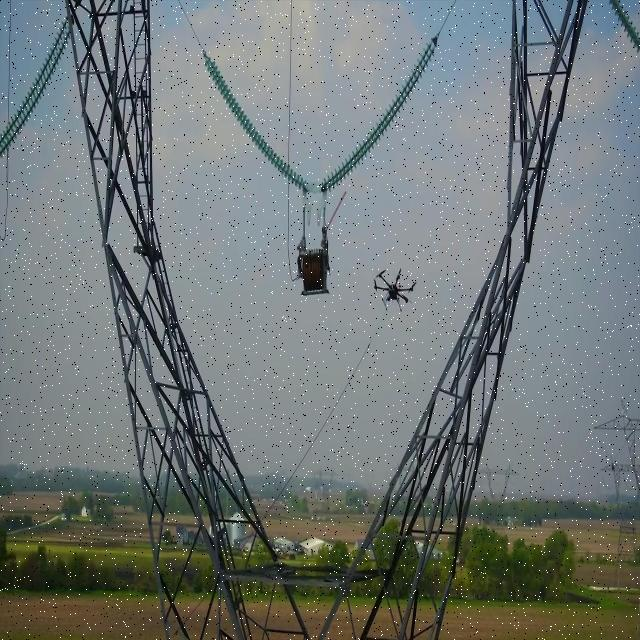UAV: (373, 268, 417, 312)
